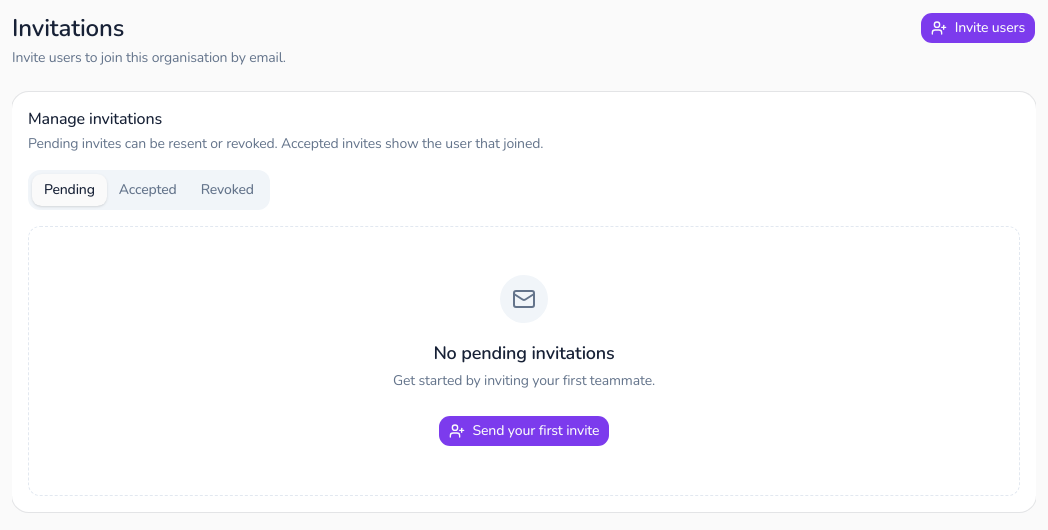
it: OrgInvitesClient › shows 'No revoked invitations' when revoked tab is empty
Click the tab "Revoked" at x=227, y=190, box top-left (189, 174), bottom-right (266, 206)
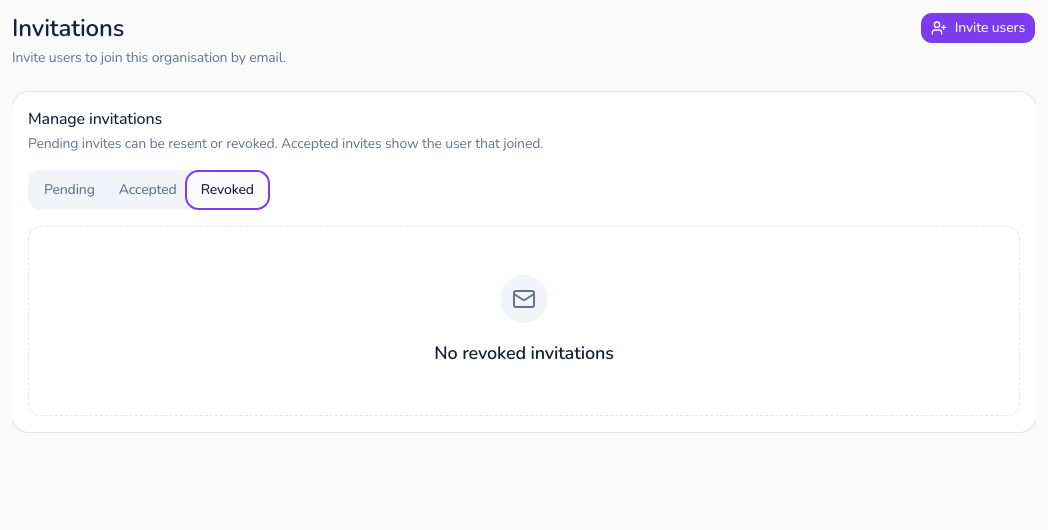
Expected: the heading "No revoked invitations" is shown, top-left (434, 339), bottom-right (614, 367)
